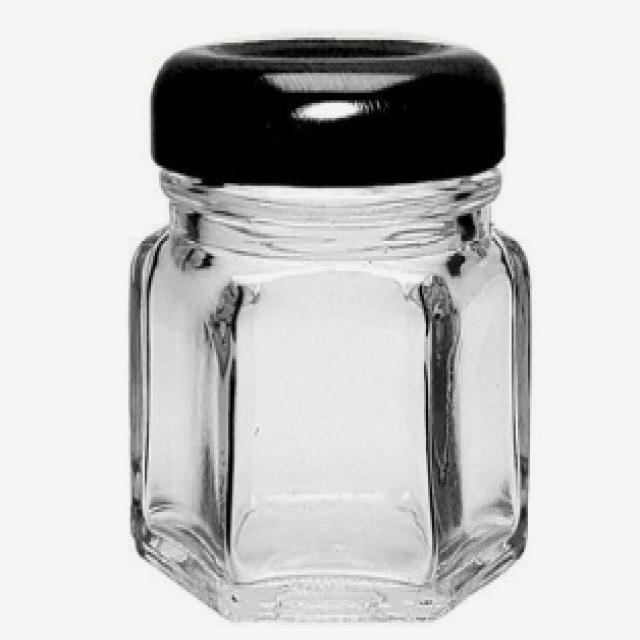ToplesKaca: (124, 32, 534, 622)
